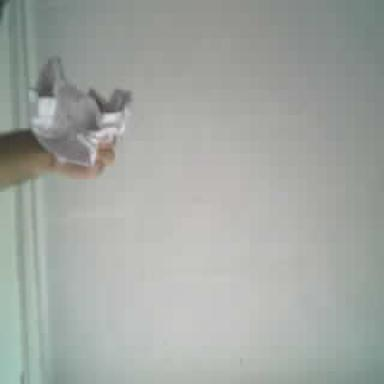paper: (29, 58, 127, 165)
